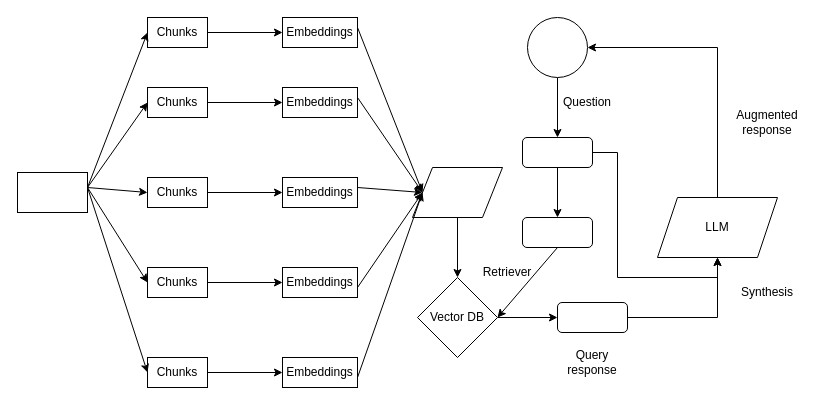
Image size: 815x405. Some labels were removed from this diagram. Each missing label, with the centre of its shape:
Documents: pixel 52 192
Query Embeddings: pixel 557 152
Retrieved Result: pixel 592 317
Semantic Indexing: pixel 457 192
Semantic Search: pixel 557 232
User: pixel 557 47
